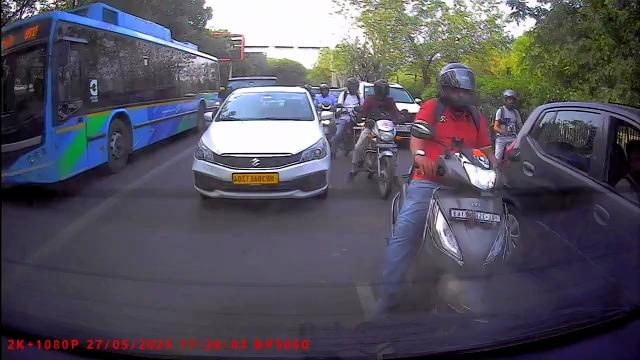motorcycle_with_helmet: (392, 61, 534, 317), (361, 77, 400, 199), (333, 75, 363, 154)
